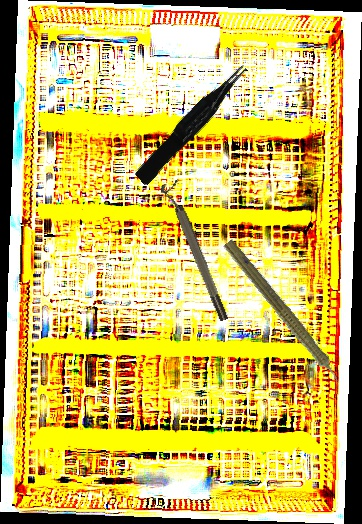Fixation Ring: (159, 179, 231, 325)
Handpiece: (217, 237, 353, 397)
Tissue Forceps: (129, 61, 257, 187)
